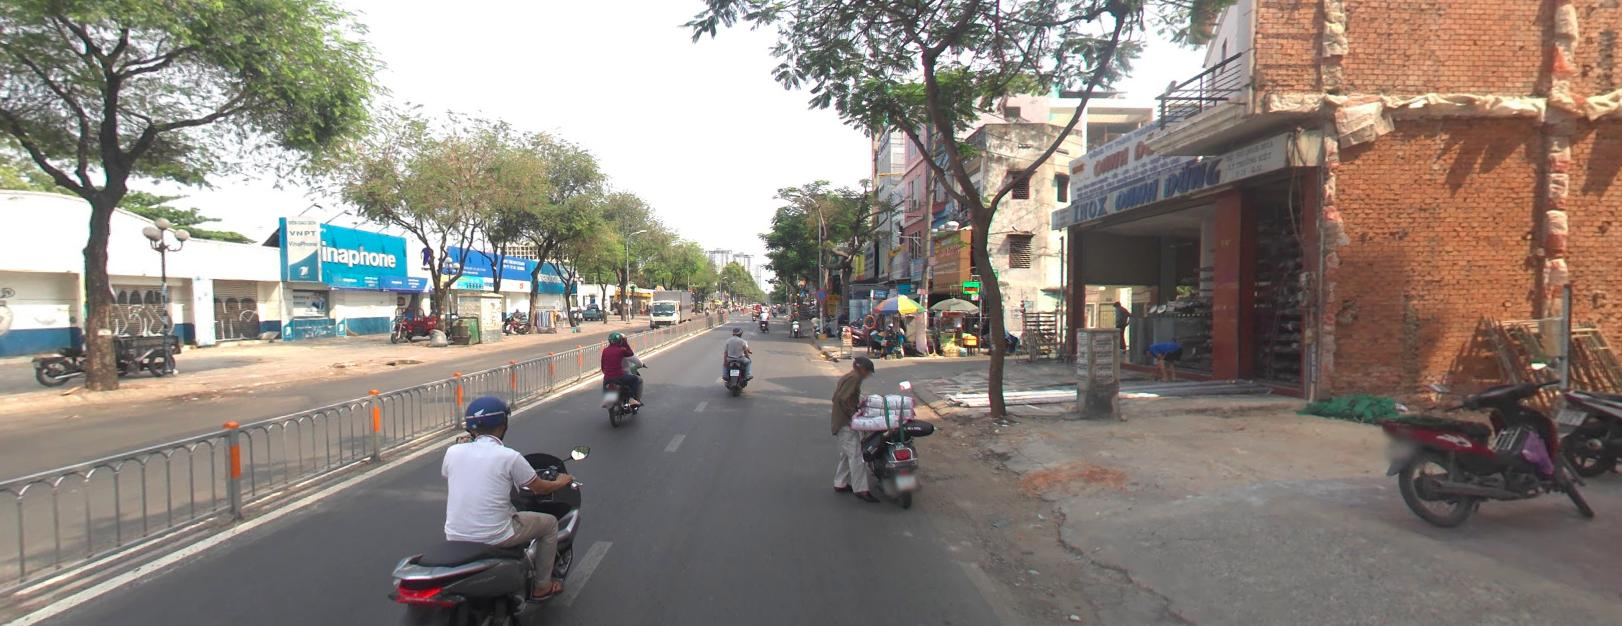Cam dung va do: (815, 286, 828, 299)
